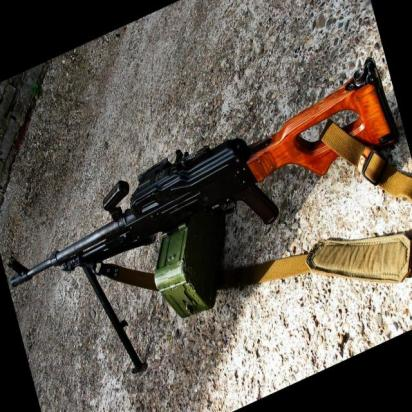Gun: (5, 74, 410, 296)
